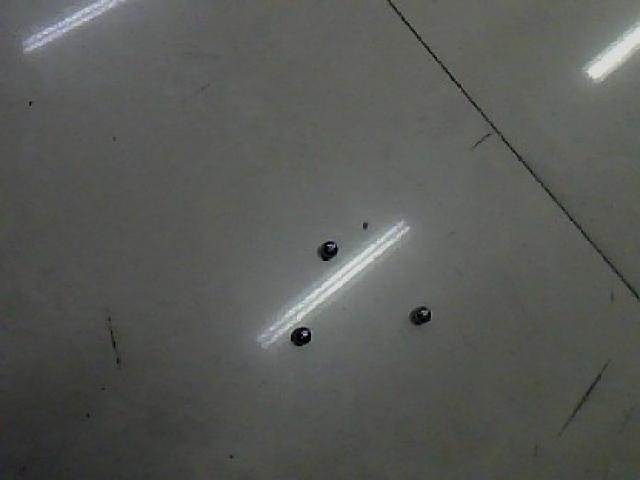steel-ball: (271, 306, 317, 352), (313, 226, 342, 268), (405, 297, 437, 332)
